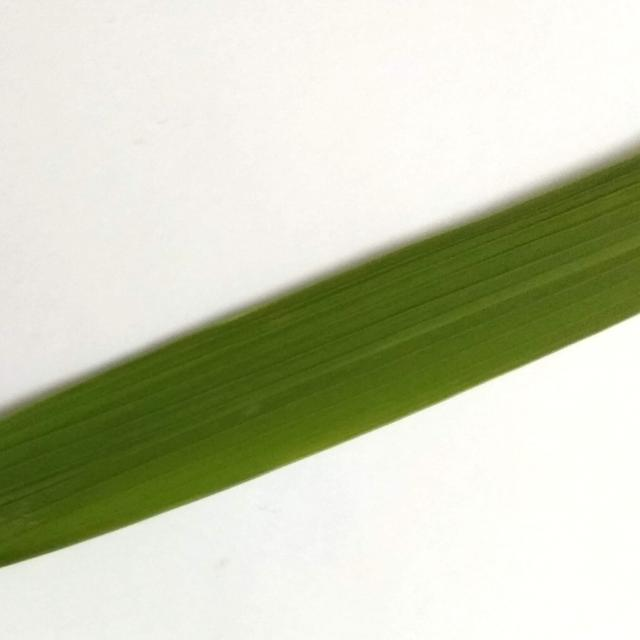Rice_Healthy: (0, 147, 640, 566)
